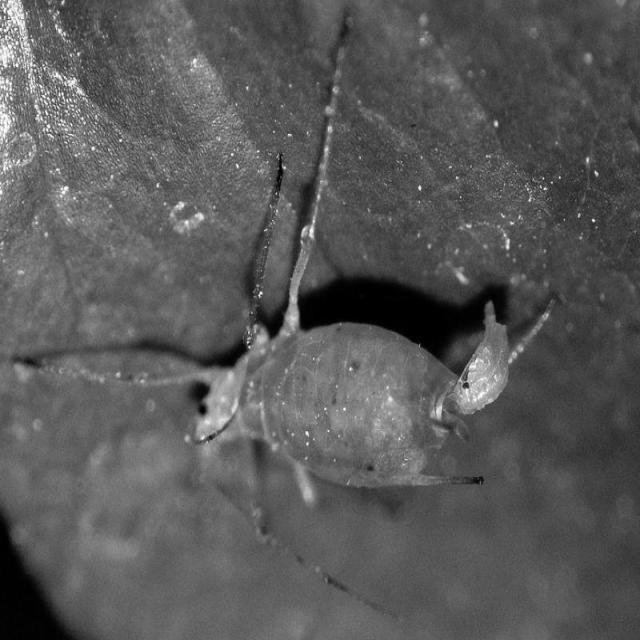Aphids: (41, 59, 529, 586)
